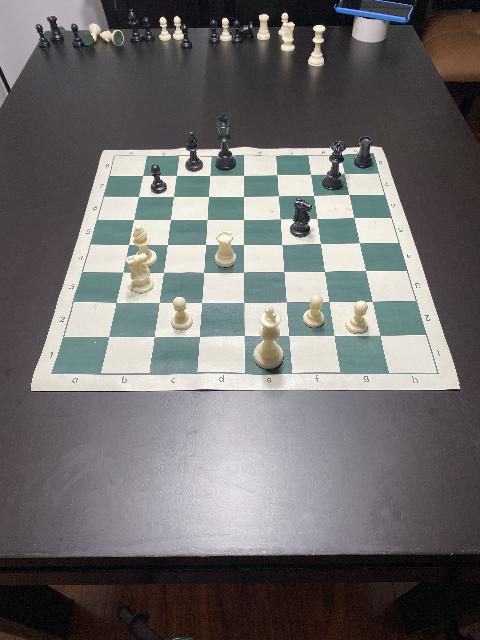black-bishop: (184, 130, 204, 172)
black-king: (215, 113, 237, 171)
black-knight: (290, 198, 314, 238)
black-pawn: (151, 164, 167, 193)
black-queen: (322, 140, 346, 190)
black-rook: (354, 136, 374, 168)
board: (30, 150, 460, 390)
white-bishop: (133, 225, 157, 267)
white-king: (254, 307, 284, 371)
white-knight: (126, 254, 154, 294)
white-pawn: (345, 300, 369, 334), (171, 296, 193, 330), (303, 295, 325, 327)
white-rook: (215, 230, 237, 268)
